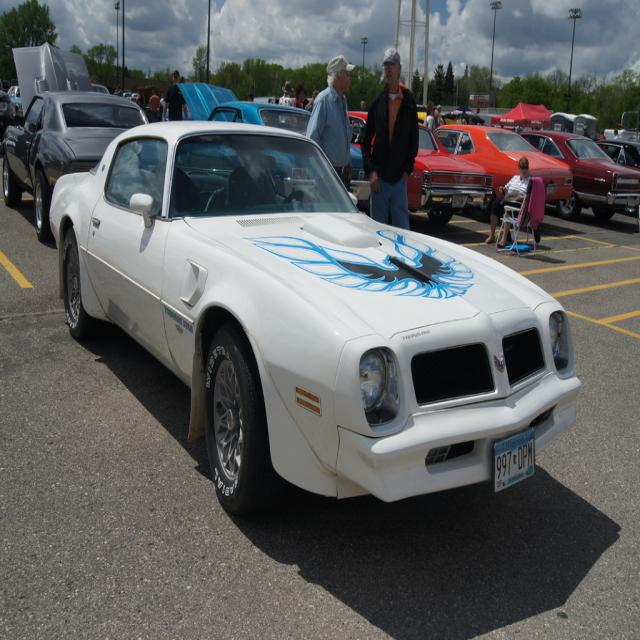car: (50, 118, 556, 522)
